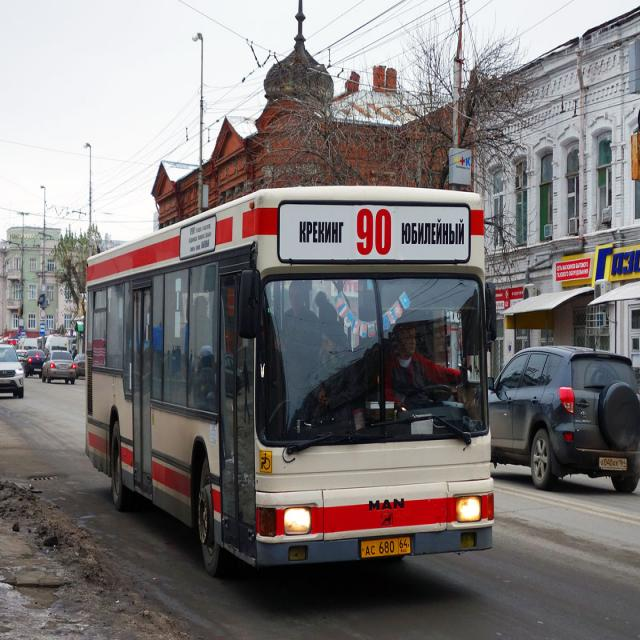number-of-bus: (355, 206, 397, 262)
